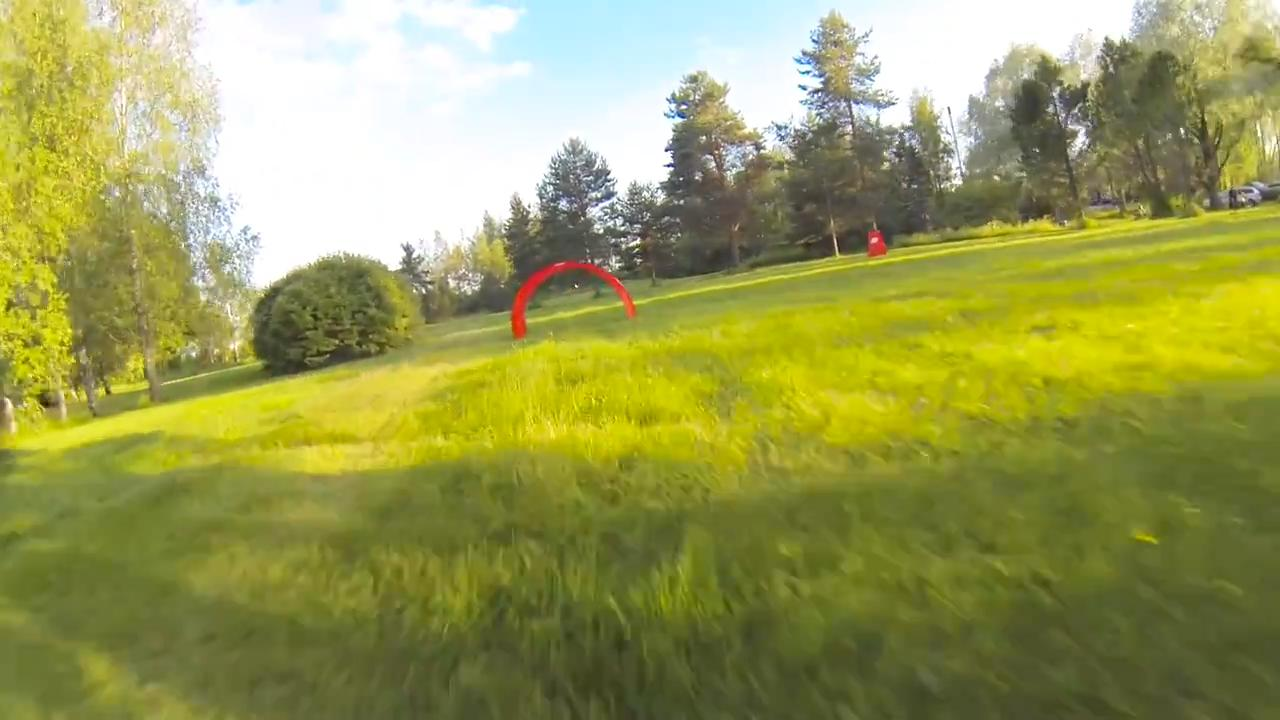gate: (512, 255, 640, 336)
